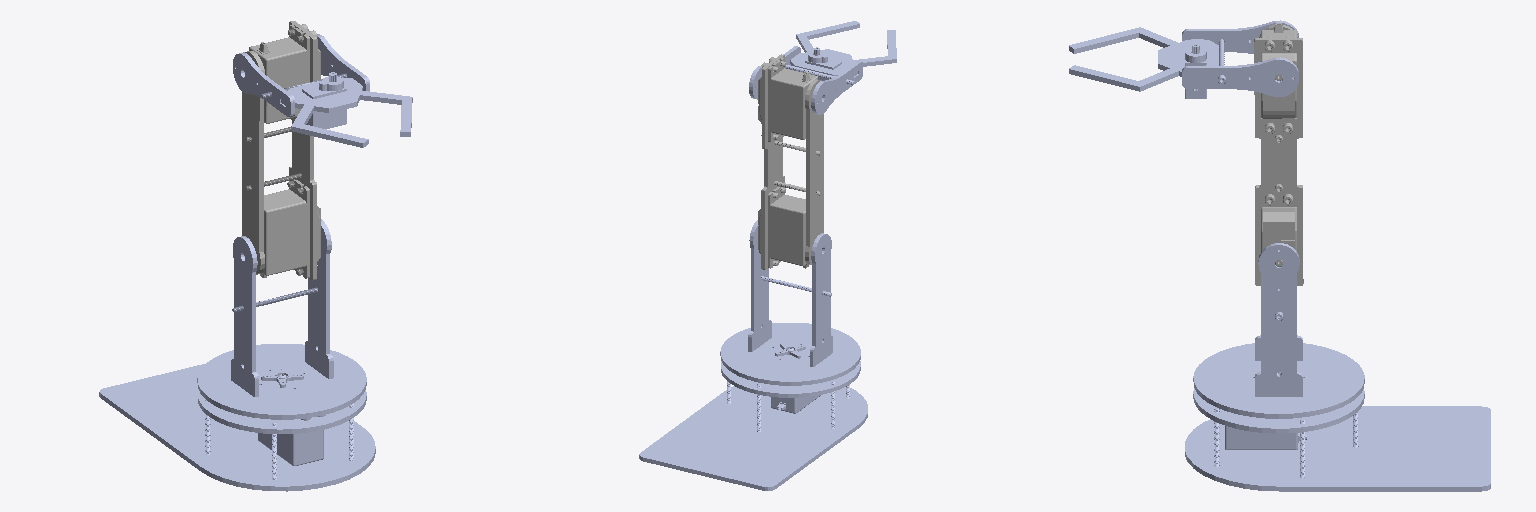
The robot description file, URDF, robot "little_robot_2023":
<?xml version="1.0" encoding="utf-8"?>
<!-- This URDF was automatically created by SolidWorks to URDF Exporter! Originally created by [author] ([email redacted]) 
     Commit Version: 1.6.0-4-g7f85cfe  Build Version: 1.6.7995.38578
     For more information, please see http://wiki.ros.org/sw_urdf_exporter -->
<robot
  name="little_robot_2023">
  <link
    name="base_link">
    <inertial>
      <origin
        xyz="2.9701E-11 0.023639 0.012305"
        rpy="0 0 0" />
      <mass
        value="0.07779" />
      <inertia
        ixx="0.00012072"
        ixy="5.3427E-14"
        ixz="3.2492E-15"
        iyy="5.5344E-05"
        iyz="-5.4001E-09"
        izz="0.00017528" />
    </inertial>
    <visual>
      <origin
        xyz="0 0 0"
        rpy="0 0 0" />
      <geometry>
        <mesh
          filename="package://little_robot_2023/meshes/base_link.STL" />
      </geometry>
      <material
        name="">
        <color
          rgba="0.79216 0.81961 0.93333 1" />
      </material>
    </visual>
    <collision>
      <origin
        xyz="0 0 0"
        rpy="0 0 0" />
      <geometry>
        <mesh
          filename="package://little_robot_2023/meshes/base_link.STL" />
      </geometry>
    </collision>
  </link>
  <link
    name="link_1">
    <inertial>
      <origin
        xyz="2.5424E-06 9.684E-17 -0.017788"
        rpy="0 0 0" />
      <mass
        value="0.032972" />
      <inertia
        ixx="2.1467E-05"
        ixy="-3.6793E-22"
        ixz="5.9949E-21"
        iyy="2.097E-05"
        iyz="-5.791E-21"
        izz="2.4394E-05" />
    </inertial>
    <visual>
      <origin
        xyz="0 0 0"
        rpy="0 0 0" />
      <geometry>
        <mesh
          filename="package://little_robot_2023/meshes/link_1.STL" />
      </geometry>
      <material
        name="">
        <color
          rgba="0.79216 0.81961 0.93333 1" />
      </material>
    </visual>
    <collision>
      <origin
        xyz="0 0 0"
        rpy="0 0 0" />
      <geometry>
        <mesh
          filename="package://little_robot_2023/meshes/link_1.STL" />
      </geometry>
    </collision>
  </link>
  <joint
    name="joint_1"
    type="revolute">
    <origin
      xyz="0 0 0.042"
      rpy="3.1416 0 3.1416" />
    <parent
      link="base_link" />
    <child
      link="link_1" />
    <axis
      xyz="0 0 1" />
    <limit
      lower="-1.572"
      upper="1.572"
      effort="0"
      velocity="0" />
  </joint>
  <link
    name="link_2">
    <inertial>
      <origin
        xyz="0.05675 0.0011378 -1.6653E-16"
        rpy="0 0 0" />
      <mass
        value="0.031129" />
      <inertia
        ixx="1.8688E-06"
        ixy="7.1767E-21"
        ixz="1.0685E-13"
        iyy="2.6912E-05"
        iyz="-2.537E-21"
        izz="2.5808E-05" />
    </inertial>
    <visual>
      <origin
        xyz="0 0 0"
        rpy="0 0 0" />
      <geometry>
        <mesh
          filename="package://little_robot_2023/meshes/link_2.STL" />
      </geometry>
      <material
        name="">
        <color
          rgba="0.75294 0.75294 0.75294 1" />
      </material>
    </visual>
    <collision>
      <origin
        xyz="0 0 0"
        rpy="0 0 0" />
      <geometry>
        <mesh
          filename="package://little_robot_2023/meshes/link_2.STL" />
      </geometry>
    </collision>
  </link>
  <joint
    name="joint_2"
    type="revolute">
    <origin
      xyz="0 0 -0.0845"
      rpy="0 0 1.5708" />
    <parent
      link="link_1" />
    <child
      link="link_2" />
    <axis
      xyz="0 -1 0" />
    <limit
      lower="-1.572"
      upper="-1.572"
      effort="0"
      velocity="0" />
  </joint>
  <link
    name="link_3">
    <inertial>
      <origin
        xyz="-0.0012743 -0.04247 -0.00050505"
        rpy="0 0 0" />
      <mass
        value="0.015925" />
      <inertia
        ixx="7.613E-06"
        ixy="-1.8257E-21"
        ixz="4.3843E-08"
        iyy="2.9309E-06"
        iyz="-2.0211E-21"
        izz="5.3893E-06" />
    </inertial>
    <visual>
      <origin
        xyz="0 0 0"
        rpy="0 0 0" />
      <geometry>
        <mesh
          filename="package://little_robot_2023/meshes/link_3.STL" />
      </geometry>
      <material
        name="">
        <color
          rgba="0.79216 0.81961 0.93333 1" />
      </material>
    </visual>
    <collision>
      <origin
        xyz="0 0 0"
        rpy="0 0 0" />
      <geometry>
        <mesh
          filename="package://little_robot_2023/meshes/link_3.STL" />
      </geometry>
    </collision>
  </link>
  <joint
    name="joint_3"
    type="revolute">
    <origin
      xyz="0.1135 0 0"
      rpy="1.5708 -1.5708 0" />
    <parent
      link="link_2" />
    <child
      link="link_3" />
    <axis
      xyz="0 0 1" />
    <limit
      lower="-1.572"
      upper="-1.572"
      effort="0"
      velocity="0" />
  </joint>
</robot>

--- What the picture shows (computed from the rendered views, not written in the file) ---
Views: 3 orthographic renders of the robot side by side, from view 1: azimuth 30°, elevation 25°; view 2: azimuth 150°, elevation 25°; view 3: azimuth 270°, elevation 25°.
Robot: little_robot_2023 — 4 links, 3 joints (3 revolute); root link base_link; default pose: joints at zero except 2 at the middle of their limits (joint_2 = -1.57, joint_3 = -1.57).
Links seen in each view (by area): view 1: base_link, link_1, link_2, link_3; view 2: base_link, link_2, link_1, link_3; view 3: base_link, link_1, link_2, link_3.
Boxes of the visible links, x1,y1,x2,y2 form: base_link: (99,364,375,491); link_1: (197,219,366,419); link_2: (242,21,320,280); link_3: (233,34,412,147); base_link: (639,343,867,490); link_2: (758,54,823,269); link_1: (720,220,860,385); link_3: (749,21,896,114); base_link: (1185,370,1490,491); link_1: (1193,243,1364,418); link_2: (1254,23,1303,285); link_3: (1069,20,1298,98).
Size in the robot's own frame: 0.105 by 0.234 by 0.2612 metres.
Meshes: 4 distinct files referenced, 4 mesh visuals loaded (4 binary STL).